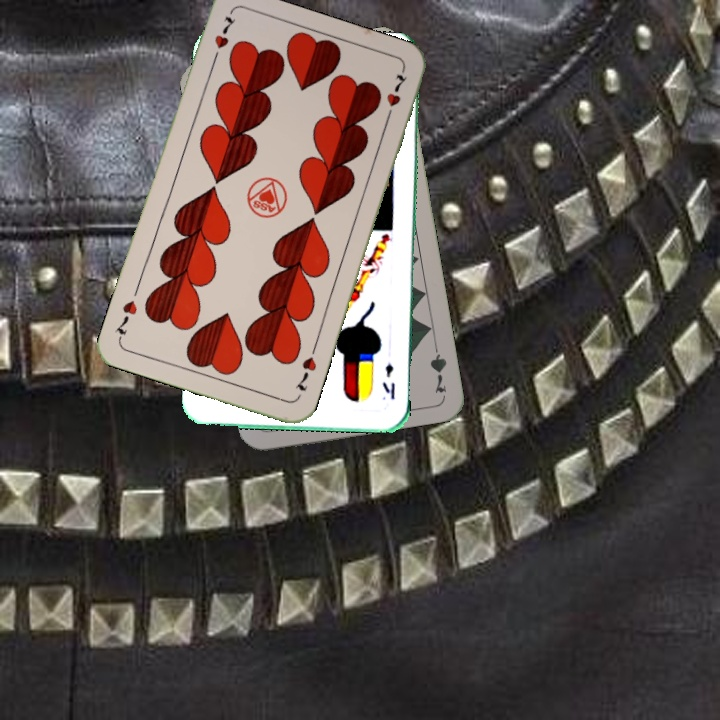EK: (378, 359, 398, 403)
G7: (426, 337, 449, 396)
H7: (208, 12, 238, 67), (290, 342, 320, 394)
